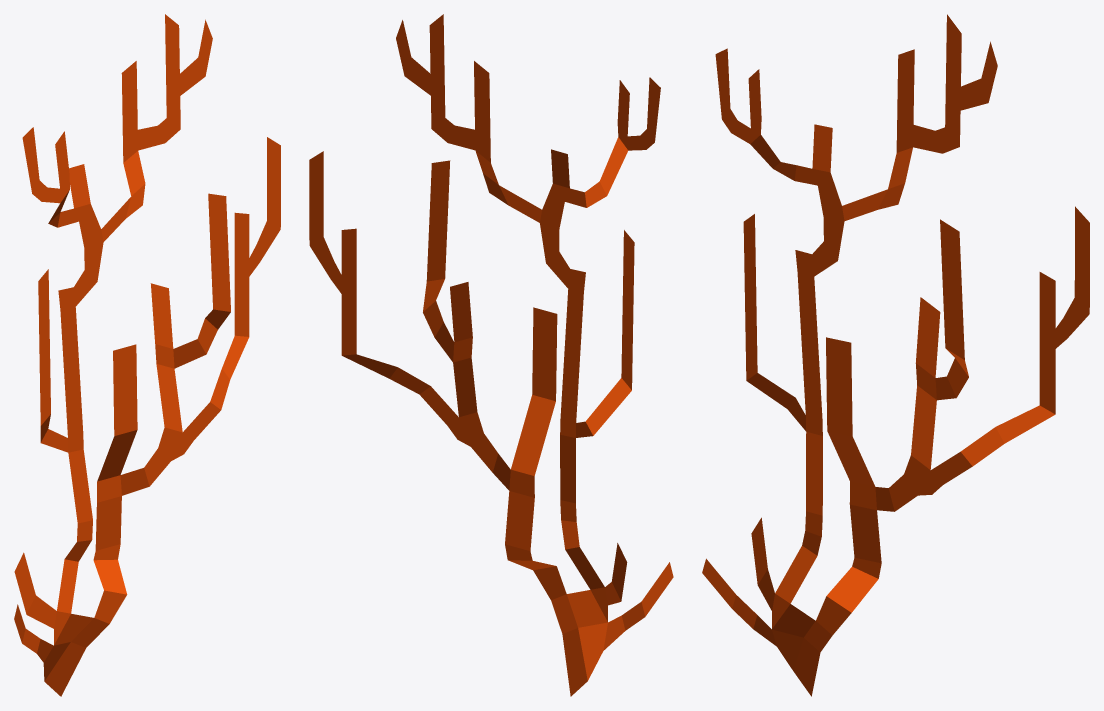
Rendered from coral_long.fbx.
The picture shows the model from 3 angles, left to right: view 1: azimuth 30°, elevation 25°; view 2: azimuth 150°, elevation 25°; view 3: azimuth 330°, elevation 25°; orthographic projection. The views are drawn at different scales.
Visible parts, largest first — view 1: coral_long; view 2: coral_long; view 3: coral_long.
Part boxes in pixels (box(x1,y1,x2,y2)): coral_long: box(14, 14, 280, 696); coral_long: box(309, 14, 673, 696); coral_long: box(702, 14, 1089, 696).
Size of the model in its own units: 622 by 1236 by 158.
